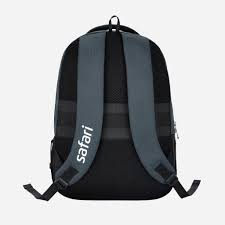backpack: (22, 15, 200, 201)
